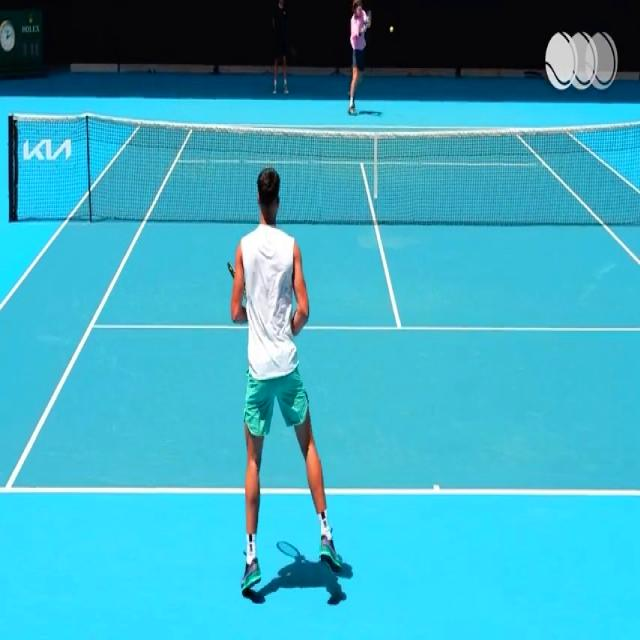ready-position: (223, 170, 343, 596)
